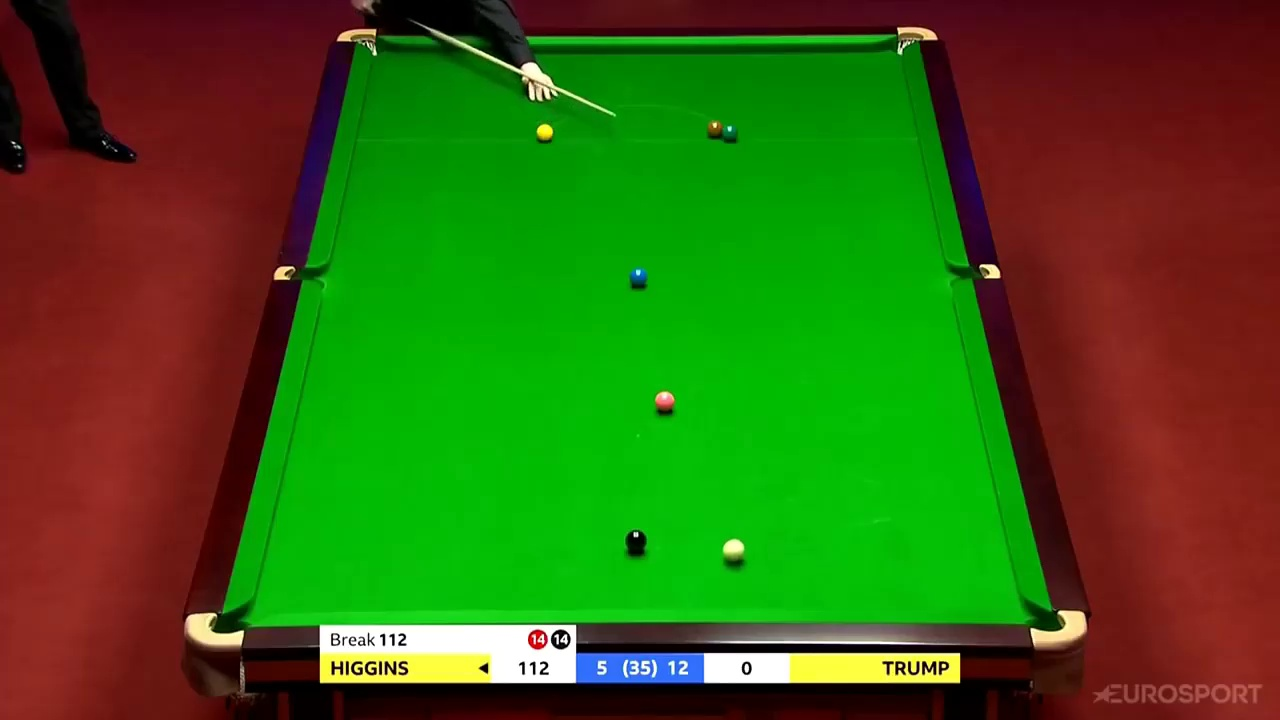ball: (624, 530, 649, 551), (626, 266, 649, 288), (721, 539, 744, 561), (654, 390, 674, 410), (534, 124, 553, 139)
